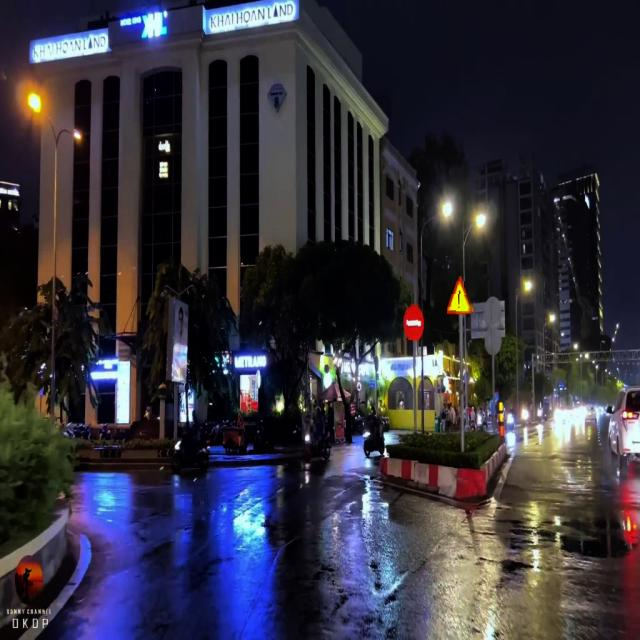cam_xe_di_nguoc_chieu: (403, 304, 424, 340)
nguy_hiem_khac: (447, 273, 475, 314)
